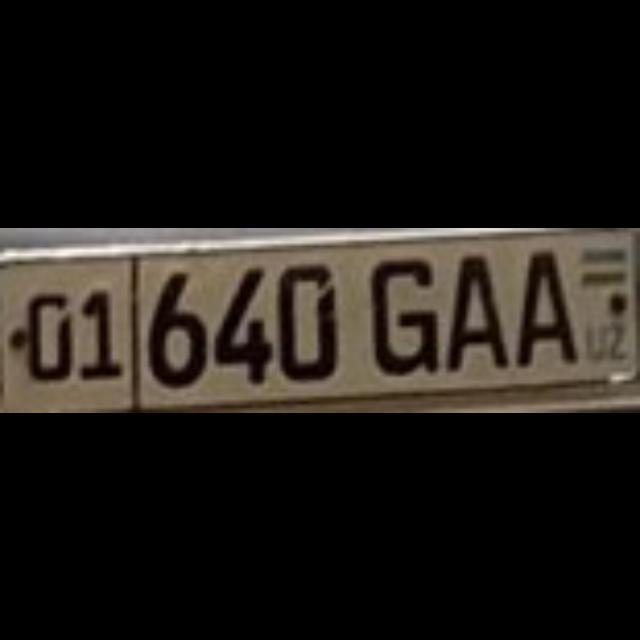0: (272, 260, 334, 376), (20, 288, 66, 379)
1: (74, 284, 120, 376)
4: (206, 264, 268, 380)
6: (144, 264, 206, 384)
A: (508, 243, 578, 363), (442, 248, 504, 368)
G: (368, 252, 434, 372)
